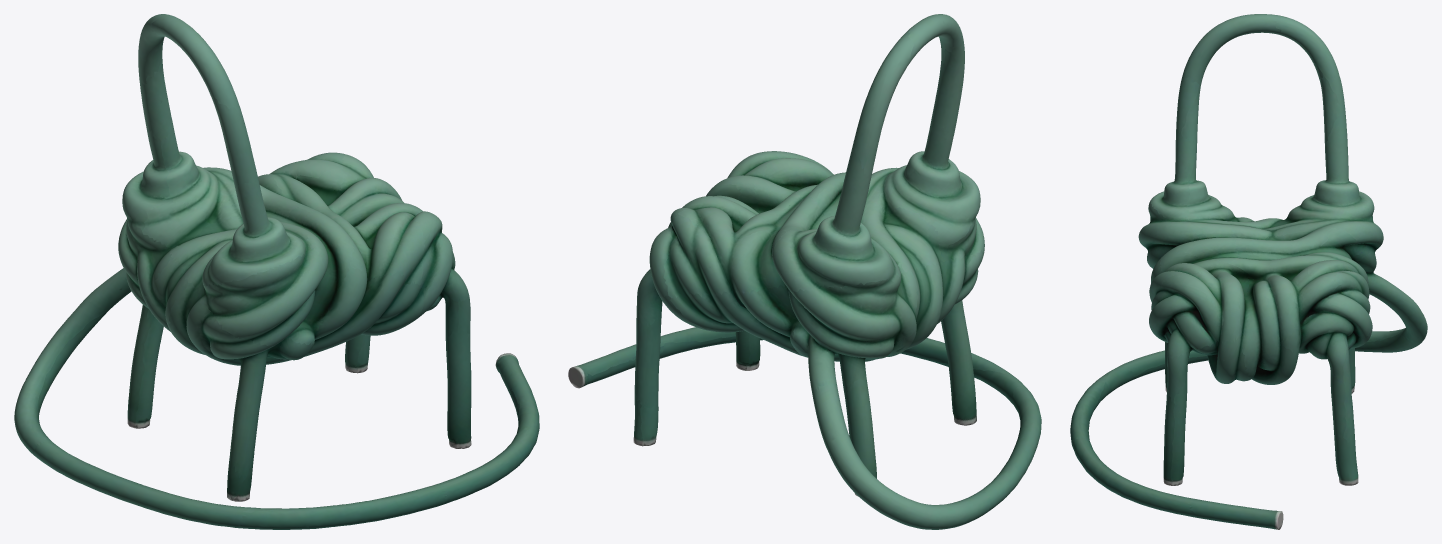
Rendered from 03_2_gj_knt_chair.glb.
3 views of the same model, side by side, from view 1: azimuth 30°, elevation 25°; view 2: azimuth 150°, elevation 25°; view 3: azimuth 270°, elevation 25° (orthographic). The views are drawn at different scales.
Parts seen in each view (by area): view 1: tripo_node_794970d1-e5ba-45bd-acff-d5d437baa164; view 2: tripo_node_794970d1-e5ba-45bd-acff-d5d437baa164; view 3: tripo_node_794970d1-e5ba-45bd-acff-d5d437baa164.
Part boxes in pixels (x1,y1,x2,y2): tripo_node_794970d1-e5ba-45bd-acff-d5d437baa164: (14,14,539,529); tripo_node_794970d1-e5ba-45bd-acff-d5d437baa164: (568,14,1041,529); tripo_node_794970d1-e5ba-45bd-acff-d5d437baa164: (1070,14,1427,529).
Size of the model in its own units: 0.9688 by 0.9004 by 0.7792.
1 material, 1 textured.
